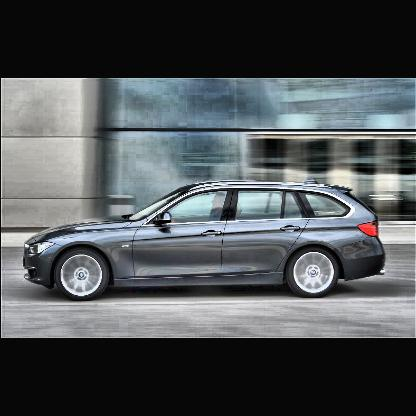BMW 3 Series Wagon 2012: (24, 181, 386, 303)
